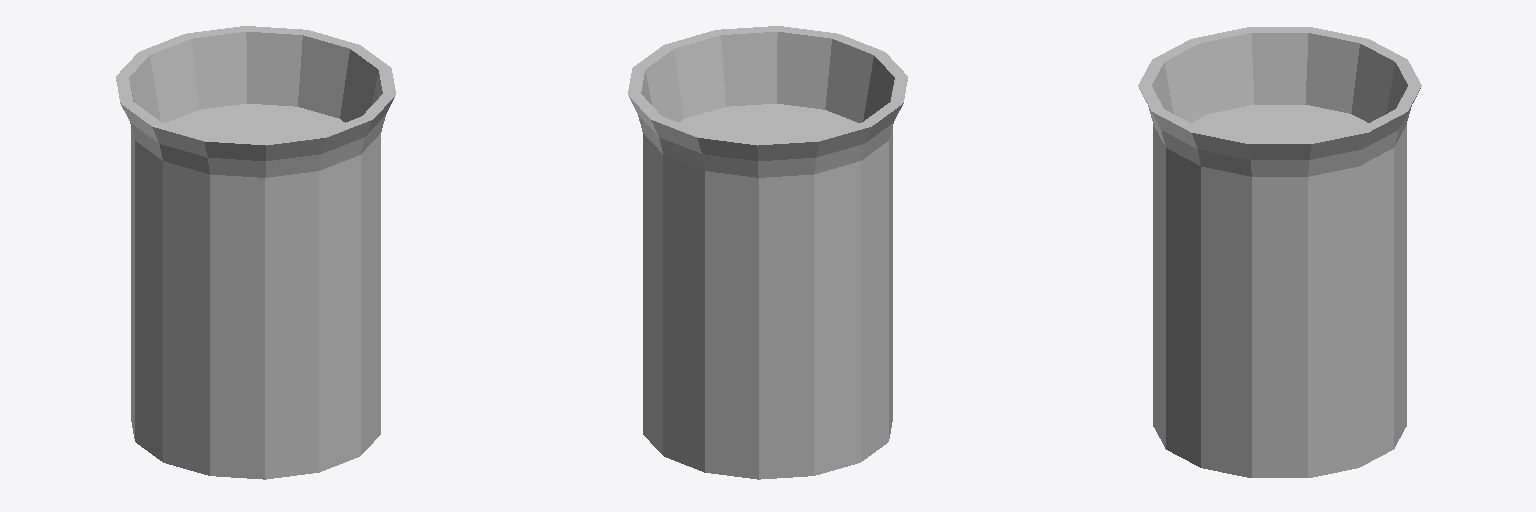
The model's file is trash-can.obj.
3 renders of one model, left to right at view 1: azimuth 30°, elevation 25°; view 2: azimuth 150°, elevation 25°; view 3: azimuth 270°, elevation 25°, orthographic.
Parts seen in each view (by area): view 1: trash-can; view 2: trash-can; view 3: trash-can.
Part boxes in pixels (x1,y1,x2,y2): trash-can: (116,26,395,479); trash-can: (628,26,907,479); trash-can: (1138,27,1421,477).
Bounding box in the file's own units: 0.7849 × 1.07 × 0.805.